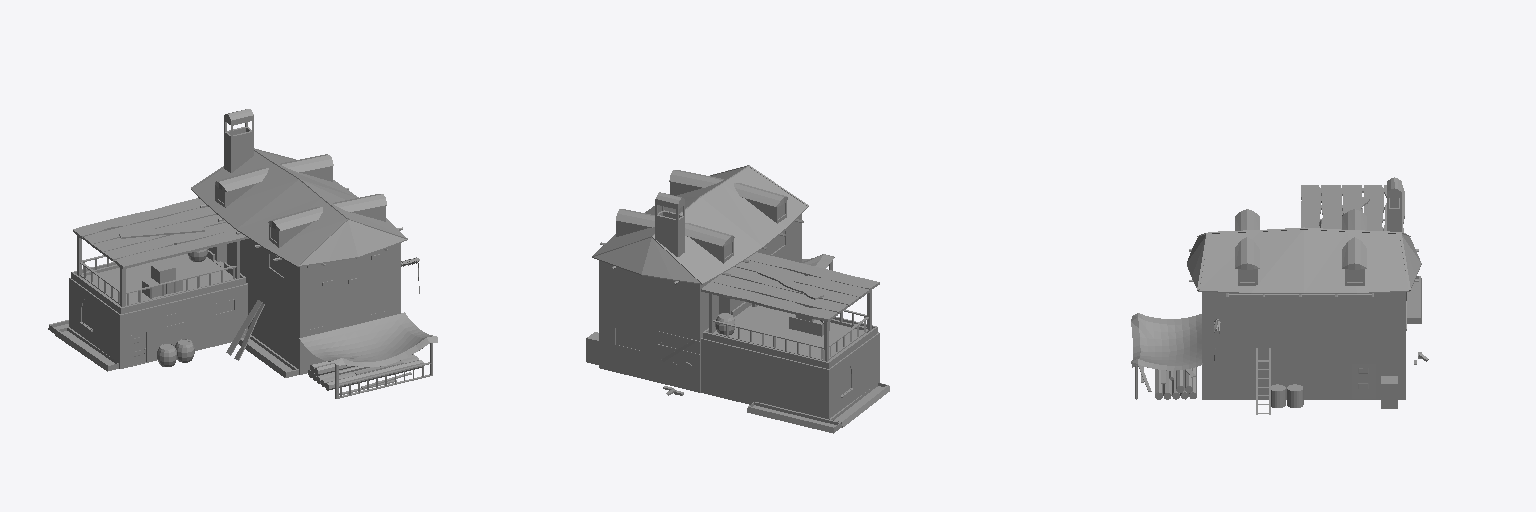
Rendered from OldHouse.obj.
3 renders of one model, left to right at view 1: azimuth 30°, elevation 25°; view 2: azimuth 150°, elevation 25°; view 3: azimuth 270°, elevation 25°, orthographic.
Parts seen in each view (by area): view 1: _Old_House_2__3D_Models__3Dislands_blogspot_com_; view 2: _Old_House_2__3D_Models__3Dislands_blogspot_com_; view 3: _Old_House_2__3D_Models__3Dislands_blogspot_com_.
Part boxes in pixels (bbox=[...]): _Old_House_2__3D_Models__3Dislands_blogspot_com_: bbox=[48, 109, 437, 398]; _Old_House_2__3D_Models__3Dislands_blogspot_com_: bbox=[586, 165, 889, 433]; _Old_House_2__3D_Models__3Dislands_blogspot_com_: bbox=[1131, 177, 1428, 414].
Bounding box in the file's own units: 388 × 250 × 363.